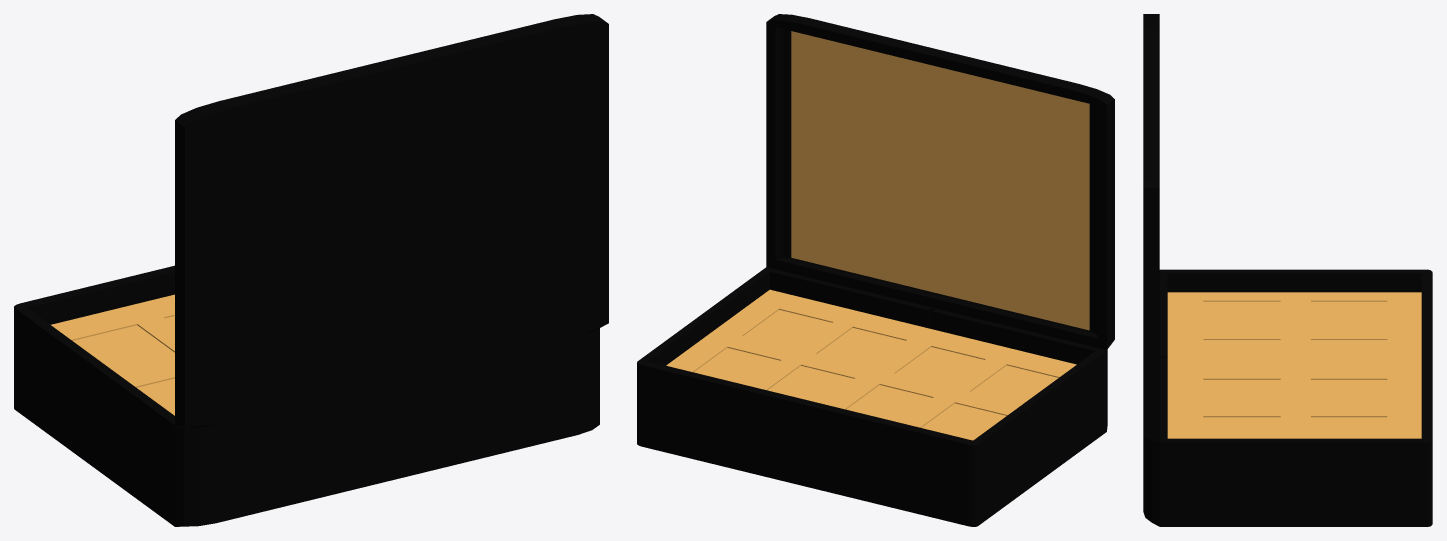
The model's file is NoMemoryBox.fbx.
The picture shows the model from 3 angles, left to right: view 1: azimuth 30°, elevation 25°; view 2: azimuth 150°, elevation 25°; view 3: azimuth 270°, elevation 25°; orthographic projection. The views are drawn at different scales.
Parts seen in each view (by area): view 1: Box, BoxIn; view 2: BoxIn, Box; view 3: Box, BoxIn.
Part boxes in pixels (left/top/right/bottom): Box: left=14, top=14, right=608, bottom=526; BoxIn: left=51, top=294, right=174, bottom=415; BoxIn: left=666, top=31, right=1089, bottom=440; Box: left=637, top=14, right=1114, bottom=526; Box: left=1143, top=14, right=1432, bottom=526; BoxIn: left=1167, top=292, right=1421, bottom=438.
Size of the model in its own units: 104 by 97.74 by 74.09.
